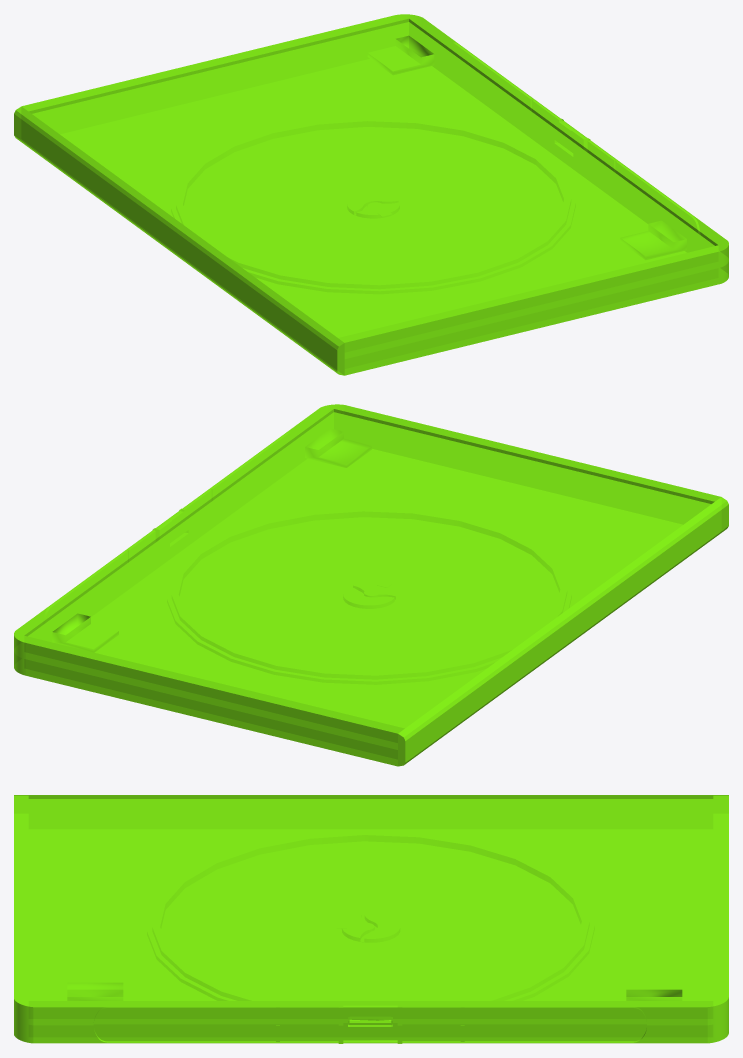
The model's file is xbox.dae.
The picture shows the model from 3 angles, top to bottom: view 1: azimuth 30°, elevation 25°; view 2: azimuth 150°, elevation 25°; view 3: azimuth 270°, elevation 25°; orthographic projection. The views are drawn at different scales.
Visible parts, largest first — view 1: group_2 (×2), group_6 (×4), group_7, group_4, group_5, group_3; view 2: group_2 (×2), group_6 (×4), group_7, group_4, group_5, group_3; view 3: group_2 (×2), group_6 (×4), group_7, group_5, group_4, group_3.
Boxes of the visible parts, bbox=[...] form: group_2 (×2): bbox=[22, 14, 728, 358]; group_6 (×4): bbox=[47, 36, 728, 375]; group_7: bbox=[14, 106, 344, 375]; group_4: bbox=[621, 221, 686, 259]; group_5: bbox=[347, 193, 399, 217]; group_3: bbox=[368, 35, 433, 74]; group_2 (×2): bbox=[14, 404, 720, 749]; group_6 (×4): bbox=[14, 426, 696, 766]; group_7: bbox=[398, 497, 728, 766]; group_4: bbox=[305, 429, 371, 467]; group_5: bbox=[343, 582, 395, 608]; group_3: bbox=[52, 613, 118, 651]; group_2 (×2): bbox=[14, 795, 728, 1025]; group_6 (×4): bbox=[14, 830, 728, 1043]; group_7: bbox=[14, 795, 728, 828]; group_5: bbox=[337, 915, 399, 941]; group_4: bbox=[68, 983, 122, 1000]; group_3: bbox=[626, 989, 682, 1000].
Bounding box in the file's own units: 282 × 395 × 22.11.
